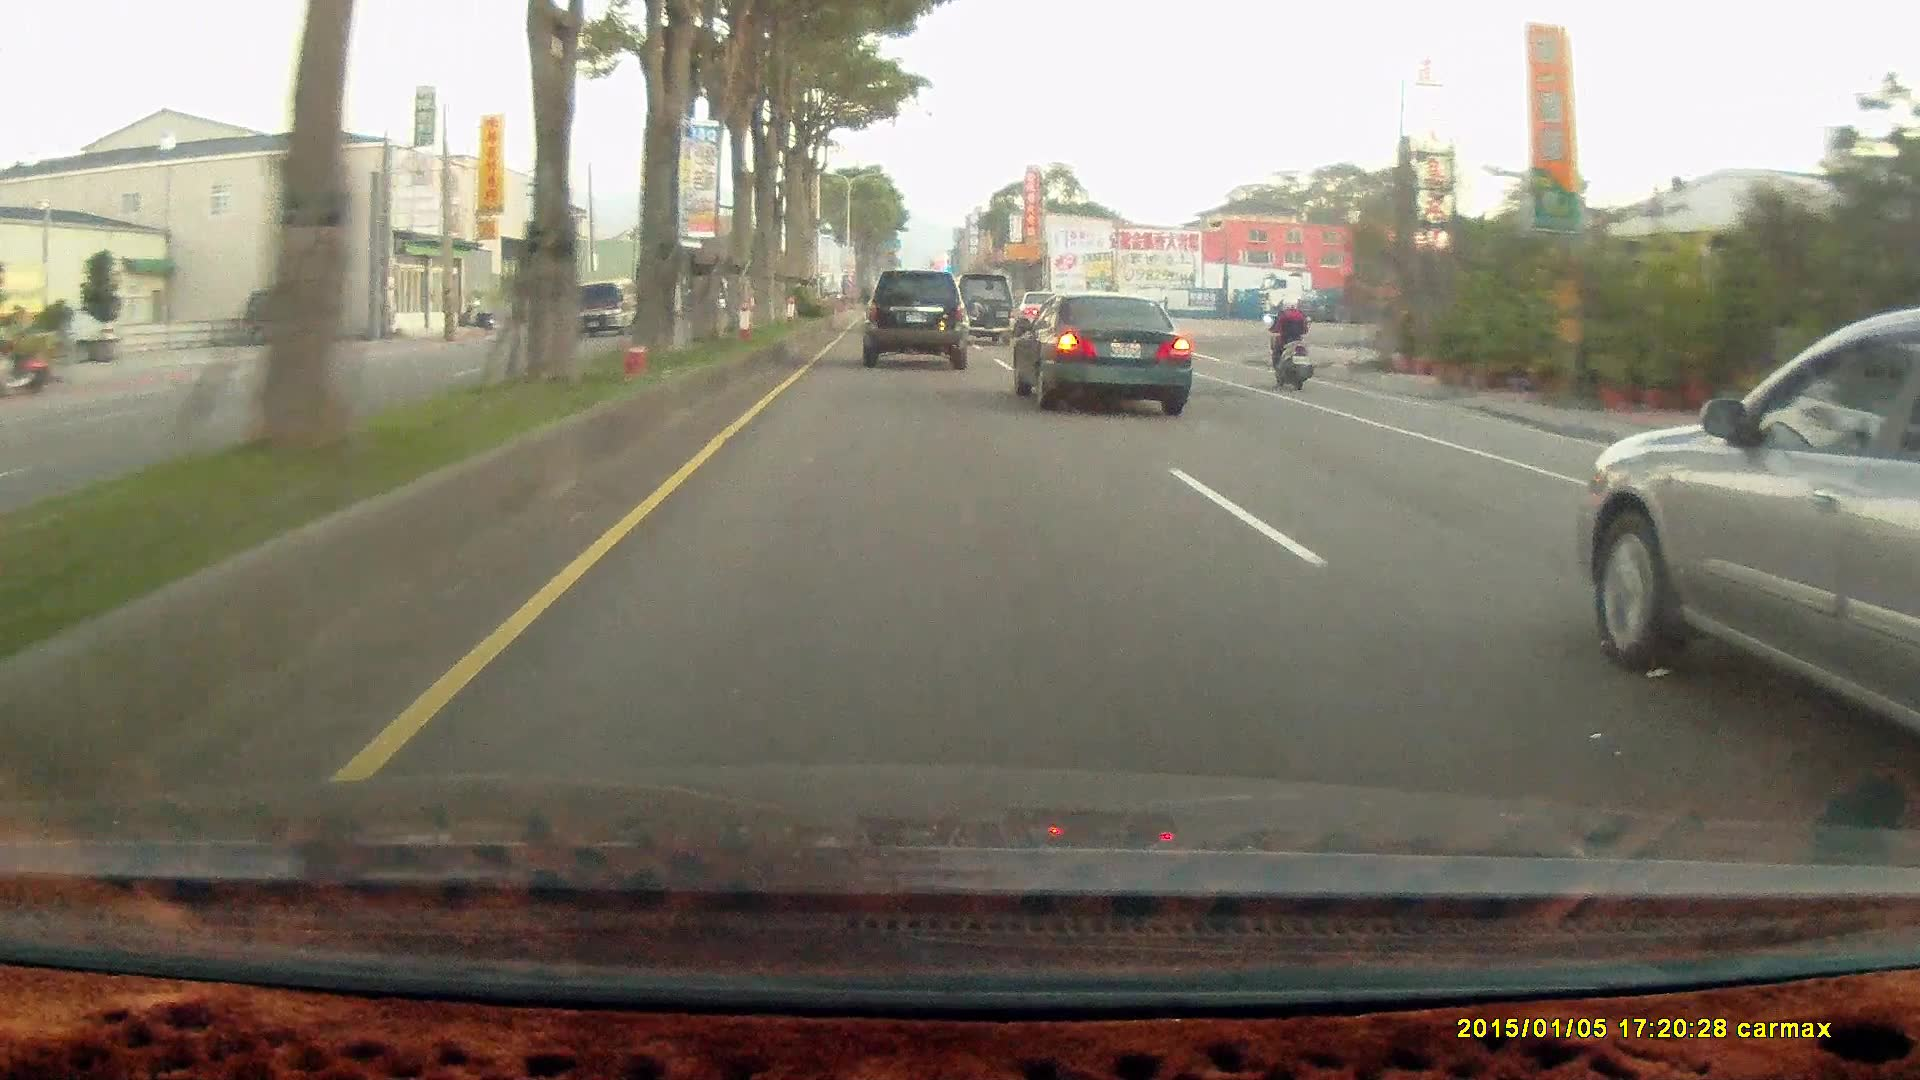rider: (1256, 288, 1324, 398), (1262, 289, 1315, 389)
vehicle: (1571, 297, 1920, 760), (1010, 288, 1191, 413), (1010, 287, 1192, 410), (1263, 264, 1499, 321), (858, 269, 973, 369), (859, 268, 967, 366), (244, 291, 344, 343), (950, 272, 1016, 347), (569, 280, 639, 337)
